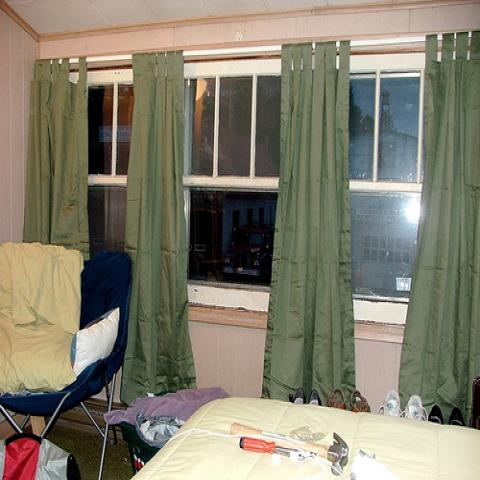car: (223, 224, 273, 279)
